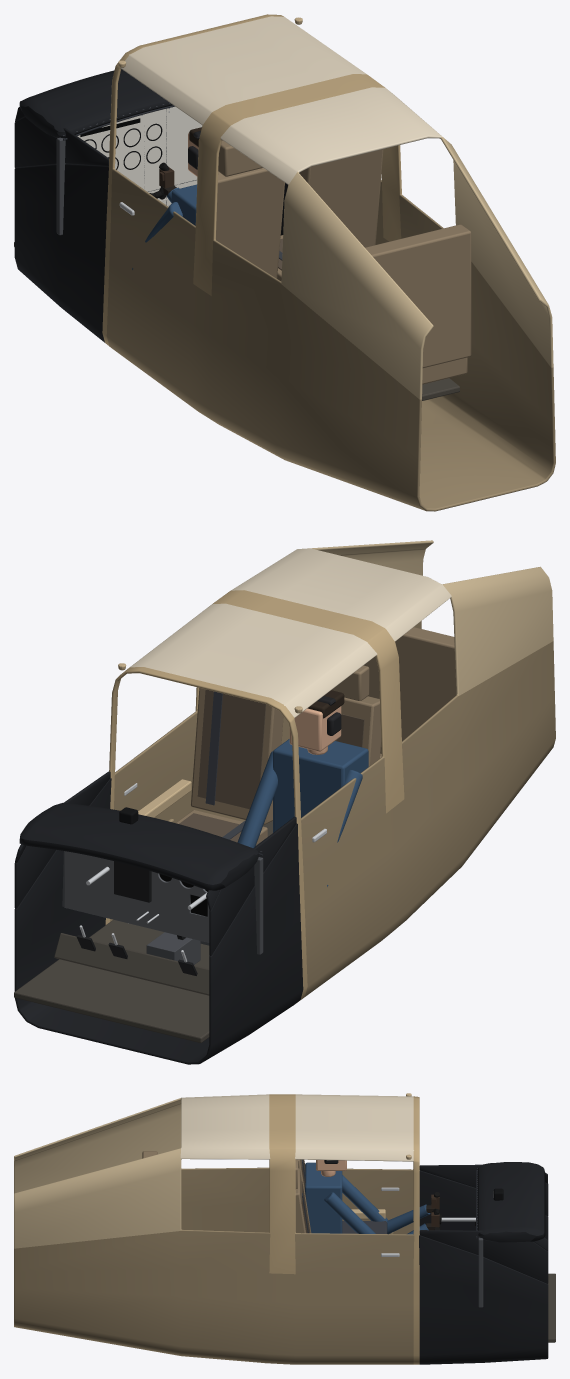
File: c172-cabin.glb
The picture shows the model from 3 angles, top to bottom: view 1: azimuth 30°, elevation 25°; view 2: azimuth 150°, elevation 25°; view 3: azimuth 270°, elevation 25°; orthographic projection. The views are drawn at different scales.
Visible parts, largest first — view 1: cabin_lining, seats, glareshield, panel_decals, pilot, panel_trim, floor_doors; view 2: cabin_lining, floor_doors, glareshield, seats, pilot, seat_details, panel, instrument_cans, pedestal, panel_trim; view 3: cabin_lining, glareshield, pilot, yoke_left, floor_doors, seats, panel_trim.
Boxes of the visible parts, x1=… form: cabin_lining: x1=14, y1=14, x2=555, y2=511; seats: x1=216, y1=140, x2=471, y2=384; glareshield: x1=19, y1=69, x2=172, y2=138; panel_decals: x1=77, y1=106, x2=202, y2=206; pilot: x1=145, y1=127, x2=201, y2=242; panel_trim: x1=56, y1=137, x2=65, y2=235; floor_doors: x1=14, y1=17, x2=459, y2=400; cabin_lining: x1=14, y1=540, x2=555, y2=1064; floor_doors: x1=14, y1=663, x2=326, y2=1042; glareshield: x1=19, y1=803, x2=258, y2=890; seats: x1=128, y1=627, x2=456, y2=923; pilot: x1=237, y1=690, x2=368, y2=848; seat_details: x1=179, y1=689, x2=364, y2=842; panel: x1=64, y1=851, x2=209, y2=942; instrument_cans: x1=114, y1=861, x2=207, y2=916; pedestal: x1=146, y1=932, x2=209, y2=964; panel_trim: x1=62, y1=851, x2=263, y2=954; cabin_lining: x1=14, y1=1094, x2=548, y2=1364; glareshield: x1=477, y1=1162, x2=545, y2=1242; pilot: x1=305, y1=1160, x2=387, y2=1233; yoke_left: x1=387, y1=1192, x2=475, y2=1234; floor_doors: x1=351, y1=1093, x2=555, y2=1342; seats: x1=142, y1=1151, x2=311, y2=1233; panel_trim: x1=478, y1=1237, x2=483, y2=1307.
Bounding box in the file's own units: 1.09 × 1.55 × 3.5.
